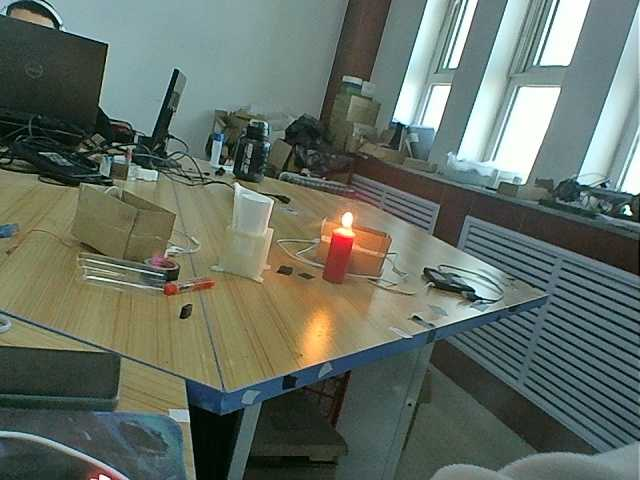candle: (321, 227, 356, 293)
fire: (334, 197, 360, 233)
